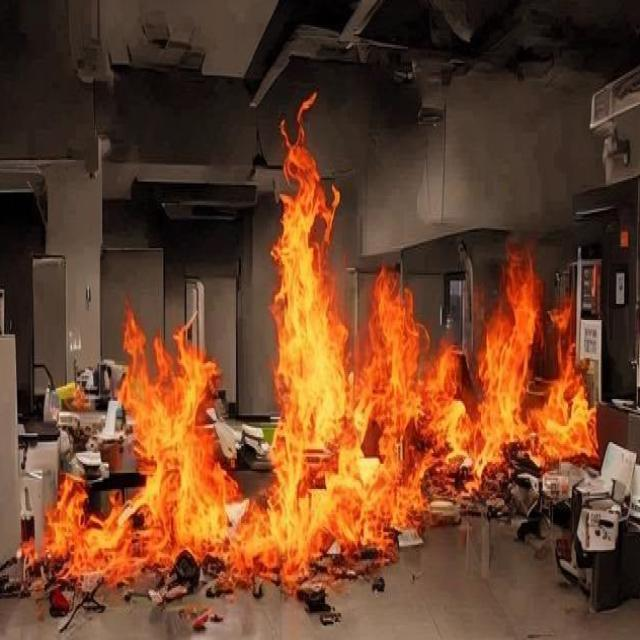smoke: (38, 84, 596, 600)
